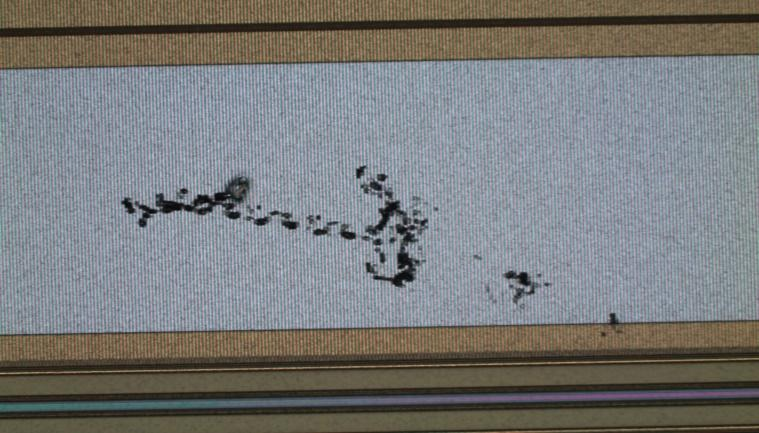SCRATCH: (118, 162, 630, 341)
